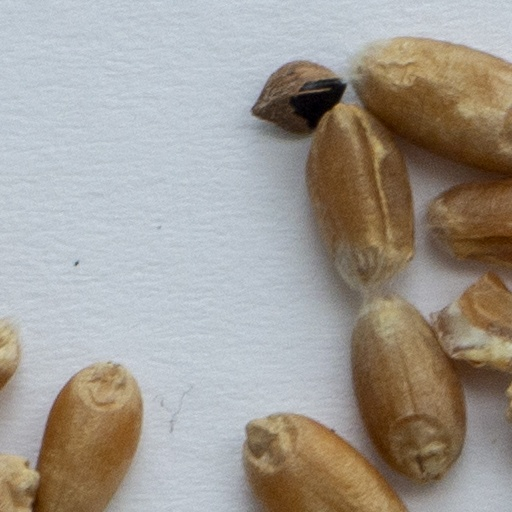Fallopia-Сonvolvulus-poly: (254, 61, 344, 135)
Wheat-grain-damaged-poly: (433, 274, 511, 369)
